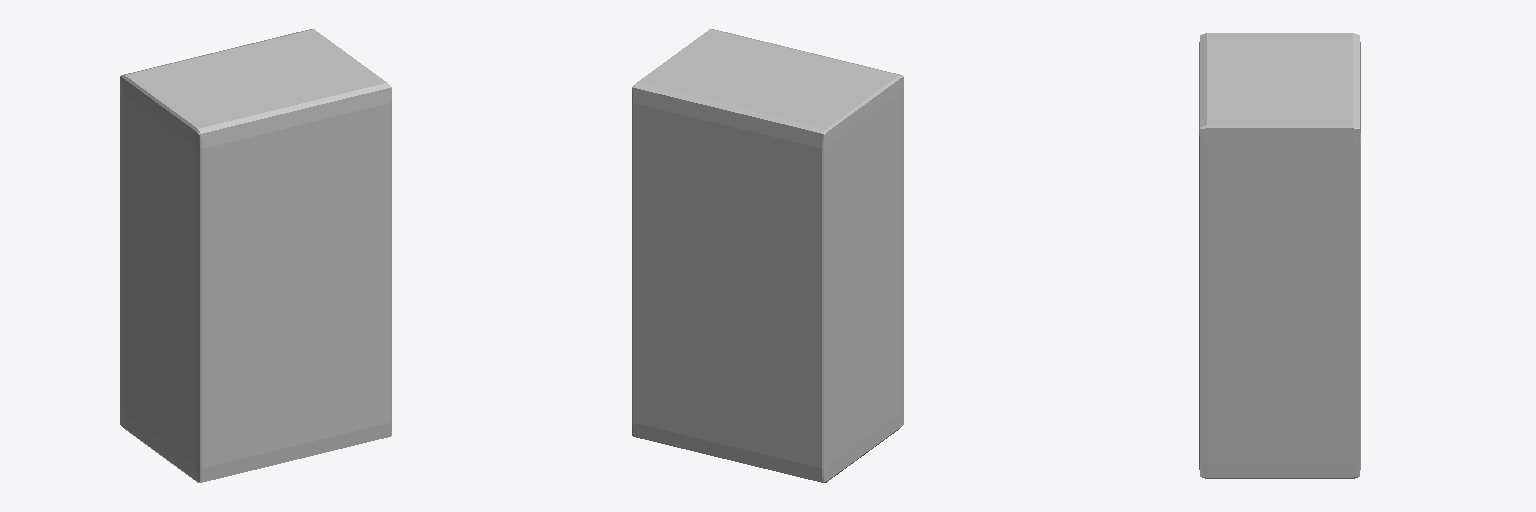
The model's file is fingerpad.obj.
3 views of the same model, side by side, from view 1: azimuth 30°, elevation 25°; view 2: azimuth 150°, elevation 25°; view 3: azimuth 270°, elevation 25° (orthographic).
Visible parts, largest first — view 1: Cube; view 2: Cube; view 3: Cube.
Part boxes in pixels (x1,y1,x2,y2): Cube: (120,29,391,482); Cube: (632,29,903,482); Cube: (1199,33,1360,478).
Size of the model in its own units: 0.0371 by 0.065 by 0.027.